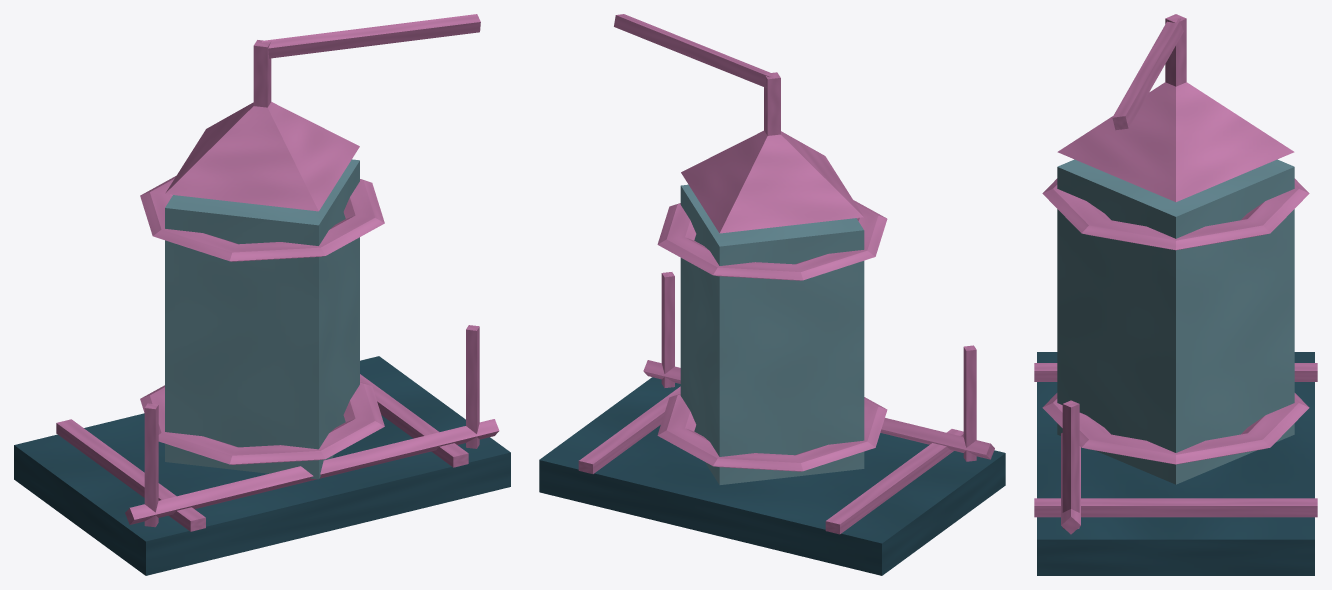
The model's file is atlas100-s067-a02.lod2.glb.
3 views of the same model, side by side, from view 1: azimuth 30°, elevation 25°; view 2: azimuth 150°, elevation 25°; view 3: azimuth 270°, elevation 25° (orthographic). The views are drawn at different scales.
Visible parts, largest first — view 1: atlas100-s067-a02:part-003, atlas100-s067-a02:part-000, atlas100-s067-a02:part-007, atlas100-s067-a02:part-014, atlas100-s067-a02:part-005, atlas100-s067-a02:part-004, atlas100-s067-a02:part-009, atlas100-s067-a02:part-001, atlas100-s067-a02:part-002, atlas100-s067-a02:part-010, atlas100-s067-a02:part-012, atlas100-s067-a02:part-008; view 2: atlas100-s067-a02:part-003, atlas100-s067-a02:part-000, atlas100-s067-a02:part-007, atlas100-s067-a02:part-005, atlas100-s067-a02:part-004, atlas100-s067-a02:part-001, atlas100-s067-a02:part-009, atlas100-s067-a02:part-014, atlas100-s067-a02:part-002, atlas100-s067-a02:part-010, atlas100-s067-a02:part-012, atlas100-s067-a02:part-008; view 3: atlas100-s067-a02:part-003, atlas100-s067-a02:part-000, atlas100-s067-a02:part-007, atlas100-s067-a02:part-005, atlas100-s067-a02:part-004, atlas100-s067-a02:part-002, atlas100-s067-a02:part-009, atlas100-s067-a02:part-012, atlas100-s067-a02:part-008, atlas100-s067-a02:part-001, atlas100-s067-a02:part-014.
Boxes of the visible parts, x1,y1,x2,y2 form: atlas100-s067-a02:part-003: [165, 159, 359, 479]; atlas100-s067-a02:part-000: [14, 356, 510, 575]; atlas100-s067-a02:part-007: [165, 102, 359, 211]; atlas100-s067-a02:part-014: [125, 419, 499, 524]; atlas100-s067-a02:part-005: [140, 176, 384, 261]; atlas100-s067-a02:part-004: [140, 382, 384, 464]; atlas100-s067-a02:part-009: [261, 14, 480, 58]; atlas100-s067-a02:part-001: [56, 419, 205, 531]; atlas100-s067-a02:part-002: [360, 374, 468, 467]; atlas100-s067-a02:part-010: [144, 403, 158, 527]; atlas100-s067-a02:part-012: [466, 325, 479, 448]; atlas100-s067-a02:part-008: [253, 40, 271, 107]; atlas100-s067-a02:part-003: [680, 184, 864, 484]; atlas100-s067-a02:part-000: [539, 377, 1005, 575]; atlas100-s067-a02:part-007: [681, 130, 863, 233]; atlas100-s067-a02:part-005: [657, 200, 887, 280]; atlas100-s067-a02:part-004: [657, 394, 887, 471]; atlas100-s067-a02:part-001: [825, 429, 963, 534]; atlas100-s067-a02:part-009: [614, 14, 770, 87]; atlas100-s067-a02:part-014: [643, 360, 994, 459]; atlas100-s067-a02:part-002: [578, 386, 680, 473]; atlas100-s067-a02:part-010: [963, 345, 976, 461]; atlas100-s067-a02:part-012: [661, 272, 674, 387]; atlas100-s067-a02:part-008: [764, 72, 780, 135]; atlas100-s067-a02:part-003: [1057, 159, 1294, 484]; atlas100-s067-a02:part-000: [1037, 352, 1314, 575]; atlas100-s067-a02:part-007: [1057, 82, 1294, 201]; atlas100-s067-a02:part-005: [1042, 178, 1309, 250]; atlas100-s067-a02:part-004: [1042, 393, 1309, 464]; atlas100-s067-a02:part-002: [1034, 498, 1317, 517]; atlas100-s067-a02:part-009: [1112, 18, 1183, 130]; atlas100-s067-a02:part-012: [1062, 400, 1079, 529]; atlas100-s067-a02:part-008: [1165, 14, 1186, 86]; atlas100-s067-a02:part-001: [1034, 363, 1317, 381]; atlas100-s067-a02:part-014: [1061, 433, 1080, 534].
Bounding box in the file's own units: 2.95 × 3.32 × 1.84.
4 materials, 4 textured.
